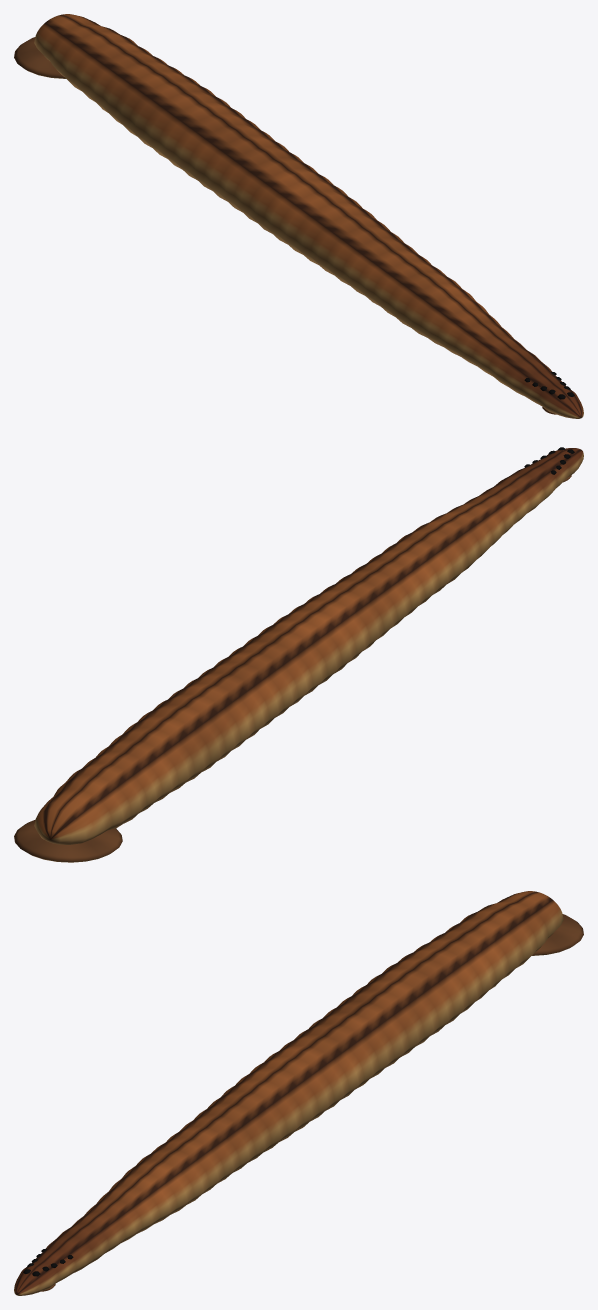
The model's file is JapaneseLandLeech.fbx.
The picture shows the model from 3 angles, top to bottom: view 1: azimuth 30°, elevation 25°; view 2: azimuth 150°, elevation 25°; view 3: azimuth 330°, elevation 25°; orthographic projection.
Parts seen in each view (by area): view 1: JapaneseLandLeech; view 2: JapaneseLandLeech; view 3: JapaneseLandLeech.
Boxes of the visible parts, x1,y1,x2,y2 form: JapaneseLandLeech: [14, 14, 583, 418]; JapaneseLandLeech: [14, 447, 583, 862]; JapaneseLandLeech: [14, 891, 583, 1295].
Bounding box in the file's own units: 0.1851 × 0.1062 × 1.83.
